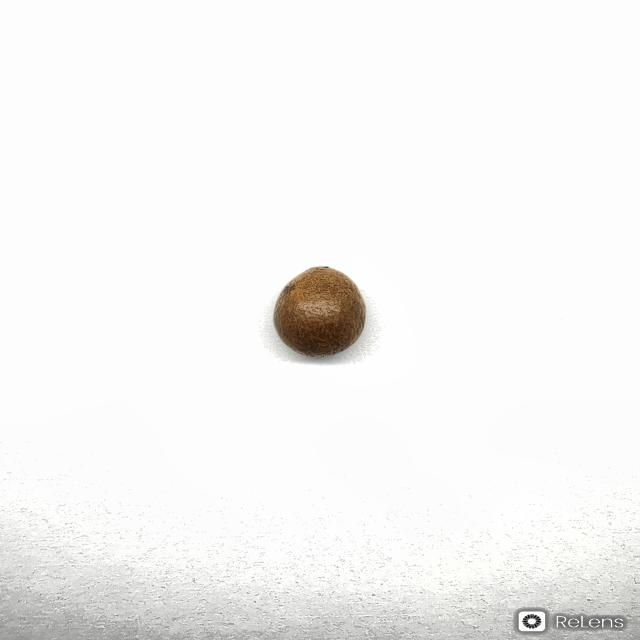Good bean: (272, 265, 367, 358)
